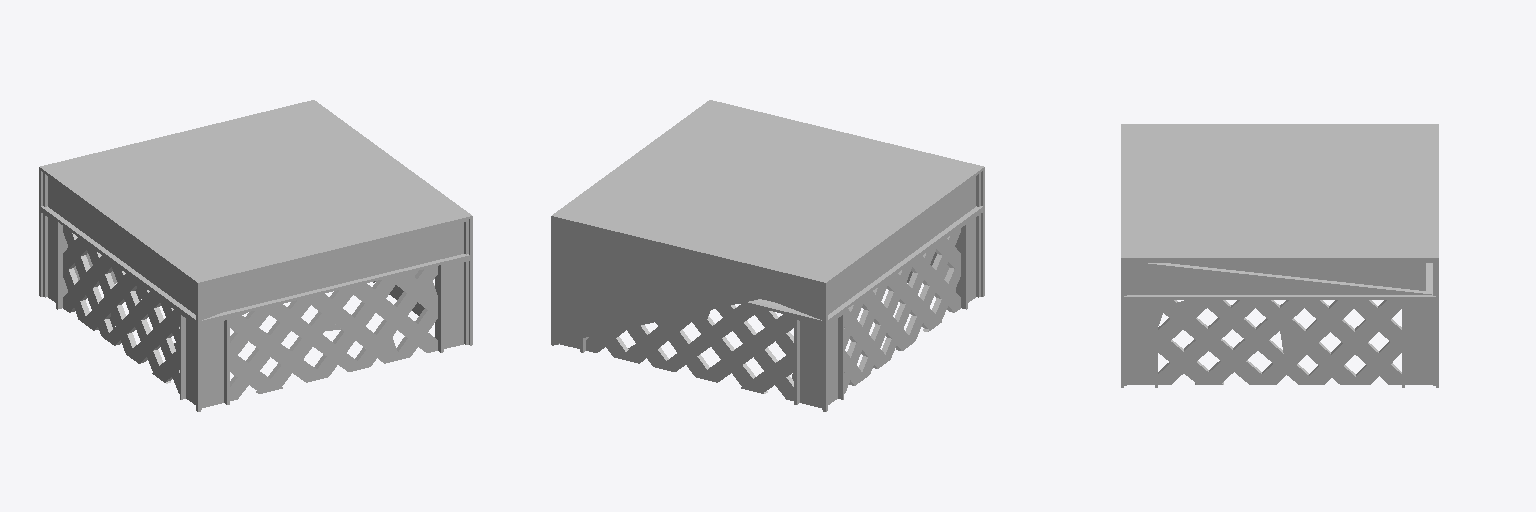
Rendered from Half_Crate__155005_.obj.
3 views of the same model, side by side, from view 1: azimuth 30°, elevation 25°; view 2: azimuth 150°, elevation 25°; view 3: azimuth 270°, elevation 25° (orthographic).
Visible parts, largest first — view 1: Half_Crate__155005__temp_Half_Crate__155005_.004; view 2: Half_Crate__155005__temp_Half_Crate__155005_.004; view 3: Half_Crate__155005__temp_Half_Crate__155005_.004.
Boxes of the visible parts, x1=… form: Half_Crate__155005__temp_Half_Crate__155005_.004: x1=39, y1=100, x2=472, y2=411; Half_Crate__155005__temp_Half_Crate__155005_.004: x1=551, y1=100, x2=984, y2=411; Half_Crate__155005__temp_Half_Crate__155005_.004: x1=1121, y1=124, x2=1438, y2=387.
Bounding box in the file's own units: 0.3334 × 0.15 × 0.3334.